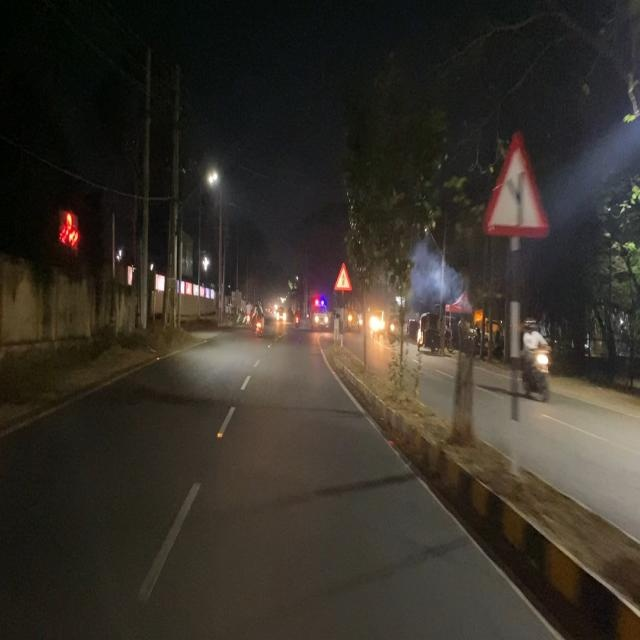bien_nguy_hiem: (481, 122, 550, 240), (334, 262, 352, 292)
